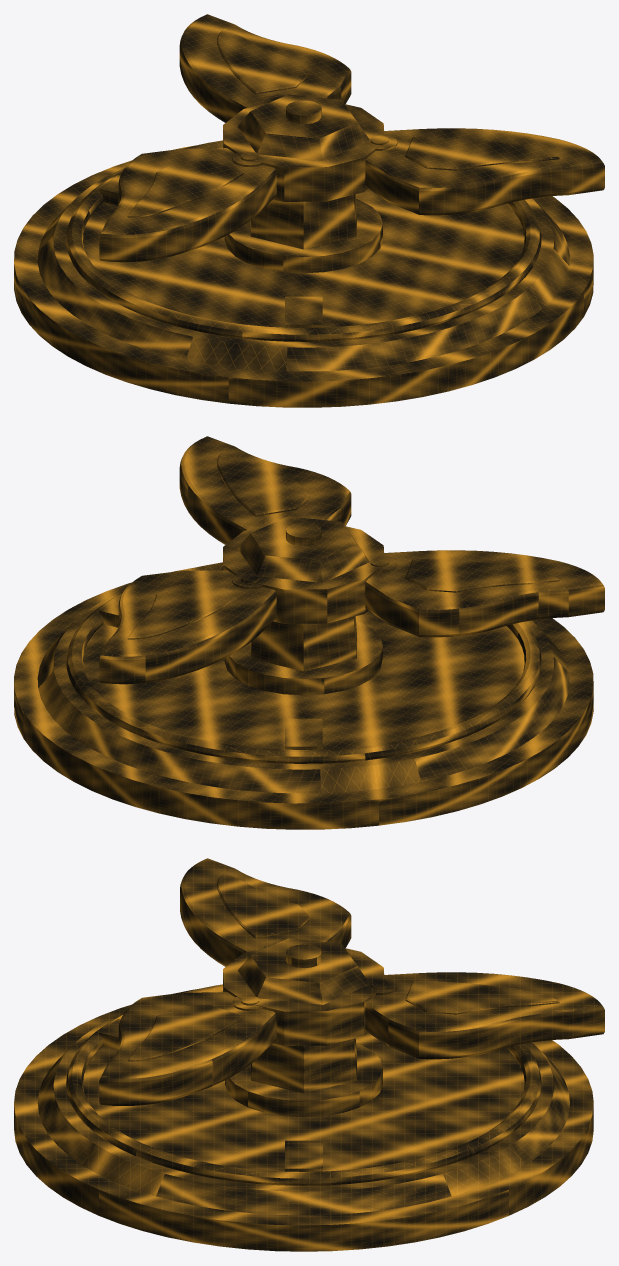
Rendered from Cyclone_Engine.glb.
The picture shows the model from 3 angles, top to bottom: view 1: azimuth 30°, elevation 25°; view 2: azimuth 150°, elevation 25°; view 3: azimuth 270°, elevation 25°; orthographic projection.
Parts seen in each view (by area): view 1: Cyclone_Engine; view 2: Cyclone_Engine; view 3: Cyclone_Engine.
Boxes of the visible parts, box(x1,y1,x2,y2) form: Cyclone_Engine: box(14, 14, 604, 407); Cyclone_Engine: box(14, 436, 604, 829); Cyclone_Engine: box(14, 858, 604, 1251).
Bounding box in the file's own units: 1.97 × 0.6618 × 2.
1 material, 1 textured.
